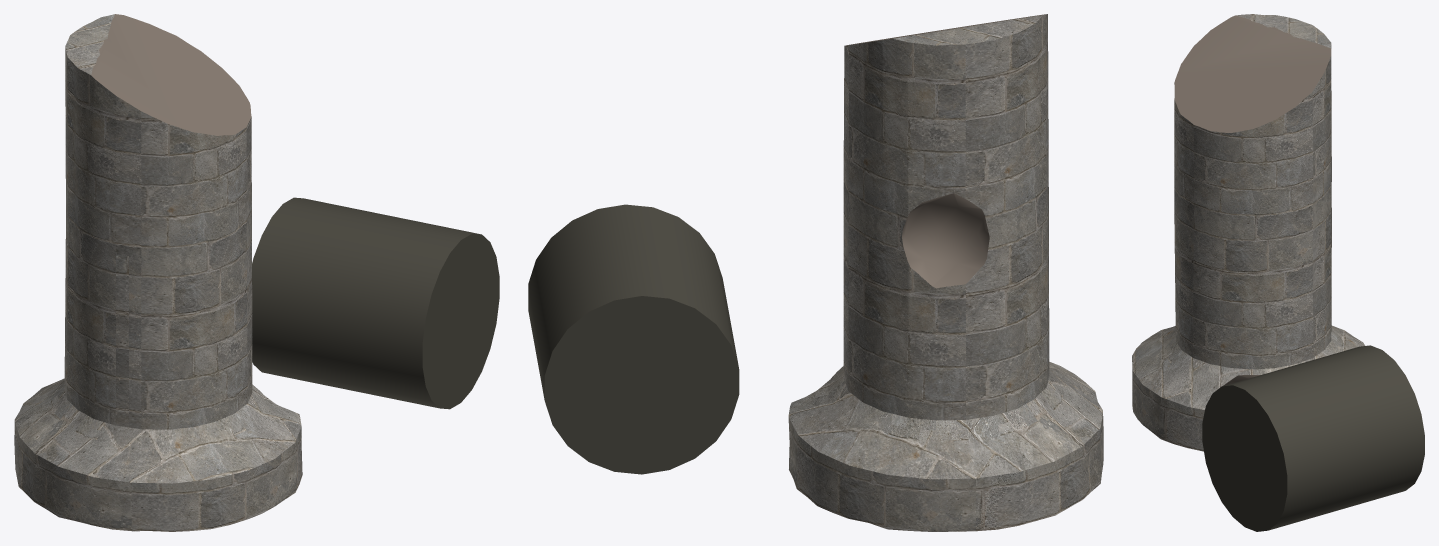
Rendered from broken-column-v01.glb.
The picture shows the model from 3 angles, left to right: view 1: azimuth 30°, elevation 25°; view 2: azimuth 150°, elevation 25°; view 3: azimuth 270°, elevation 25°; orthographic projection. The views are drawn at different scales.
Visible parts, largest first — view 1: broken-column; view 2: broken-column; view 3: broken-column.
Boxes of the visible parts, box(x1,y1,x2,y2) form: broken-column: box(14, 14, 499, 531); broken-column: box(528, 14, 1103, 531); broken-column: box(1132, 14, 1424, 531).
Size of the model in its own units: 3.12 by 2.61 by 1.93.
Materials: 2 (2 with a texture image).
